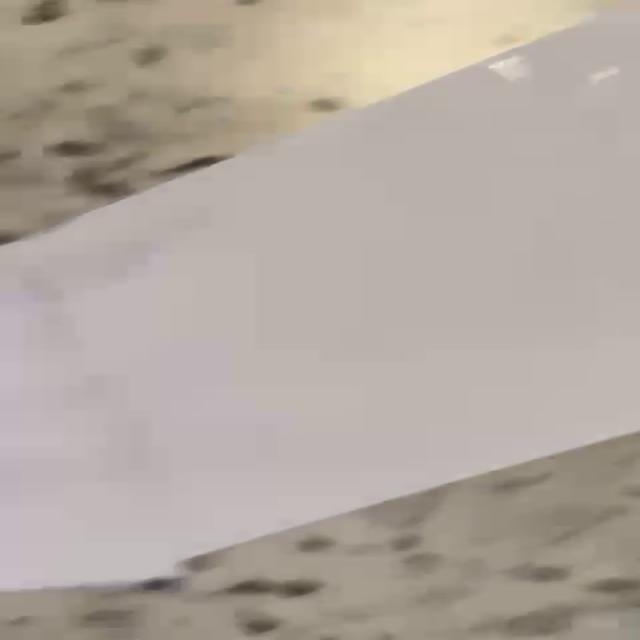road: (0, 13, 640, 595)
